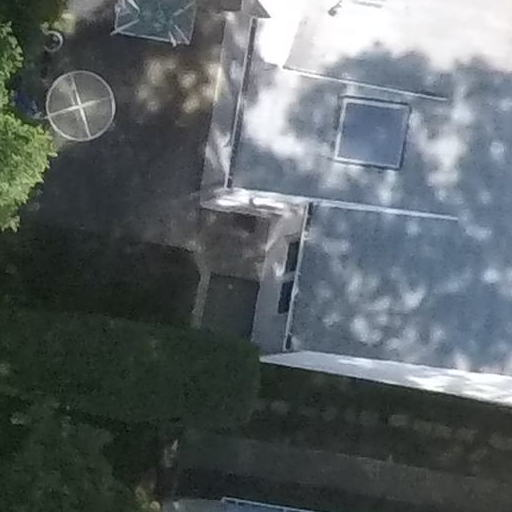container: (38, 26, 66, 55)
table: (39, 67, 121, 142), (107, 1, 207, 52)
